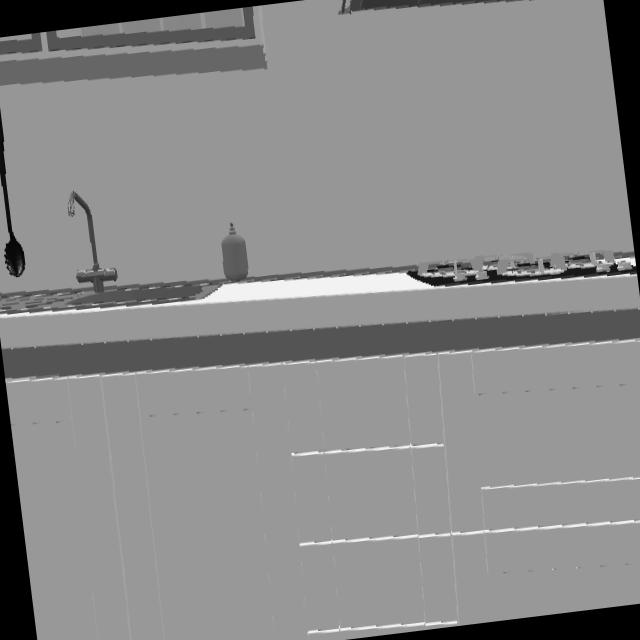cabinet: (5, 340, 640, 640)
countertop: (0, 268, 640, 379)
sink: (0, 193, 217, 315)
stove: (408, 251, 636, 286)
